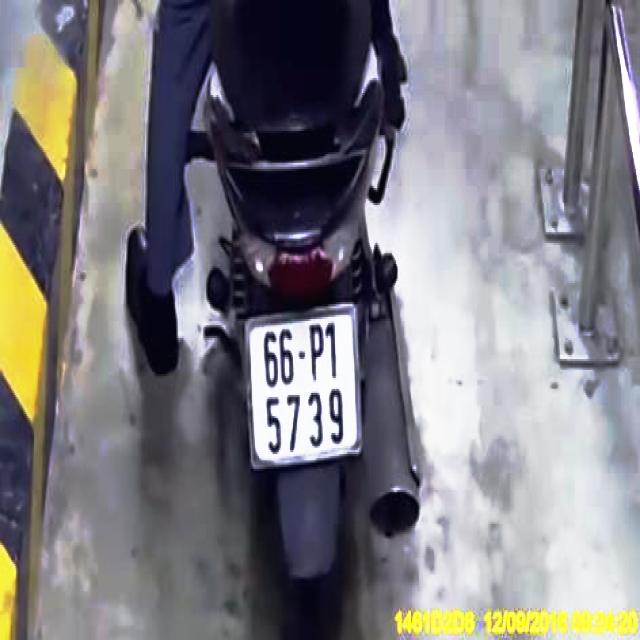license_plate: (249, 306, 363, 468)
